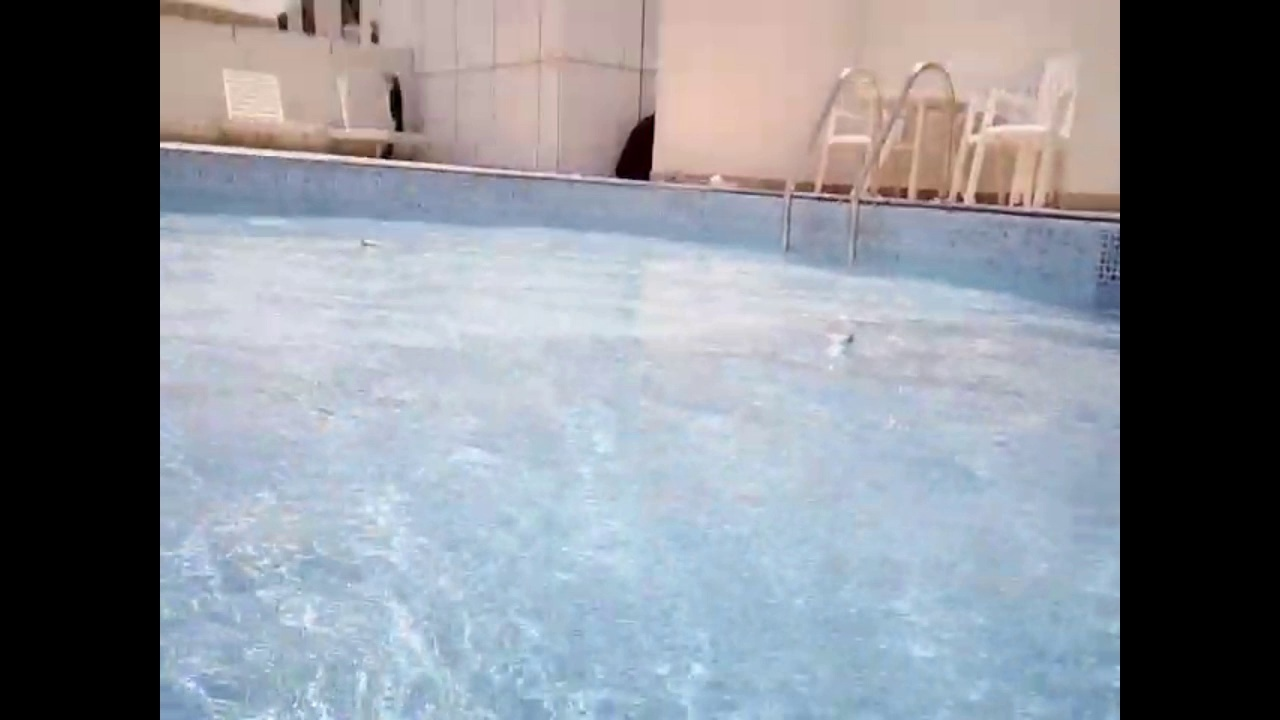debris: (821, 311, 857, 345), (358, 232, 386, 251)
